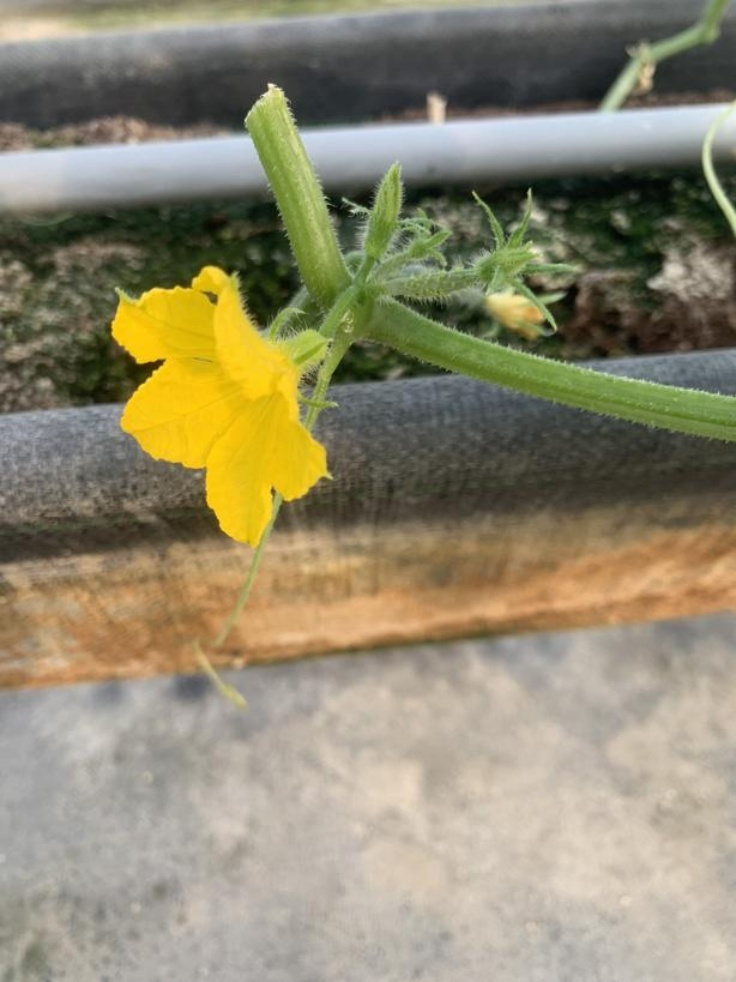mature: (98, 264, 363, 553)
